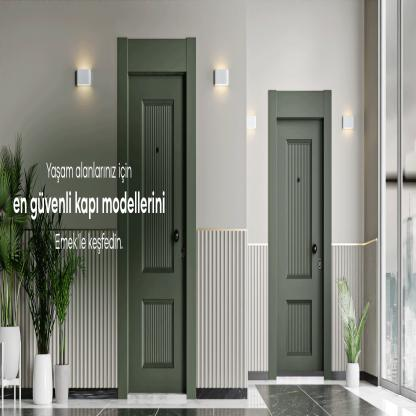door: (128, 75, 186, 392), (276, 118, 323, 370)
